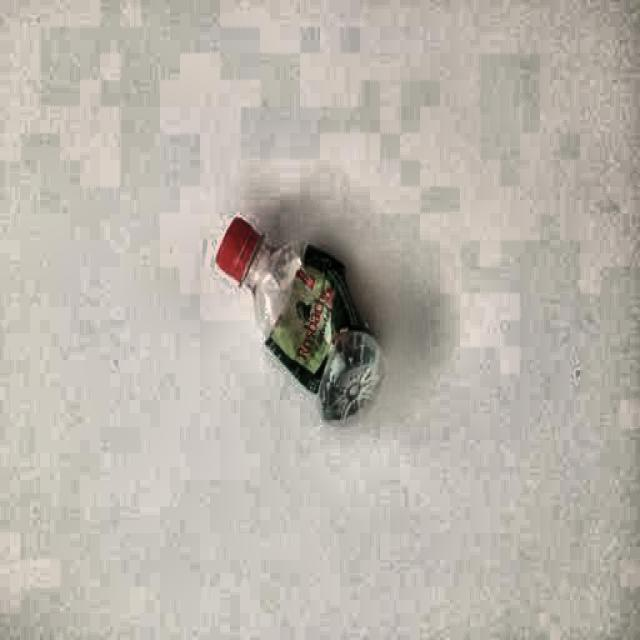plastic: (215, 208, 382, 425)
